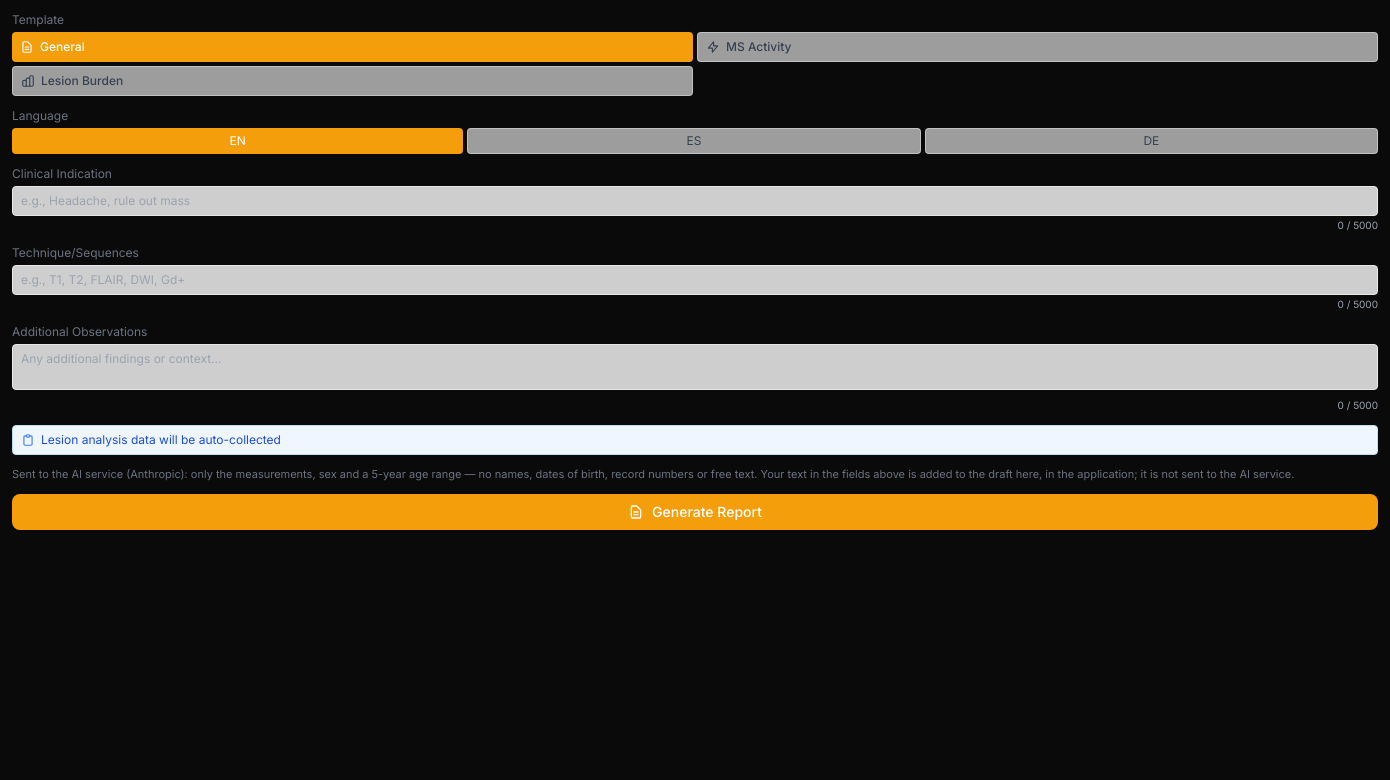
Scenario: Release 2026-10-25: the report panel names an unreadable image geometry › rc070 release r6 a 422 without measurements still shows the CAPA-008 message
Click the button with test id "report-generate-button" at (695, 512), box 12,494 -> 1378,530
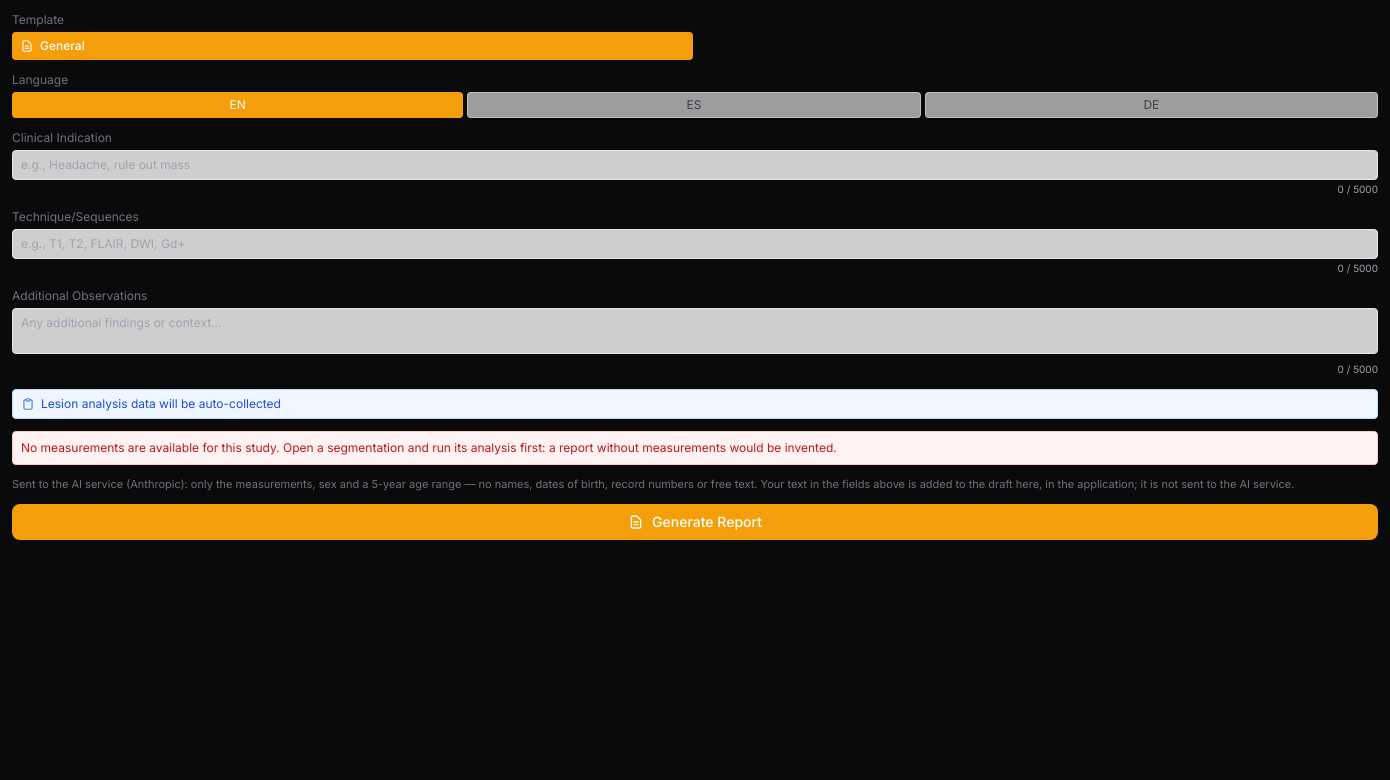
expect the text "No measurements are available for this study. Open a segmentation and run its analysis first: a report without measureme" is shown: met, box 21,440 -> 837,455
